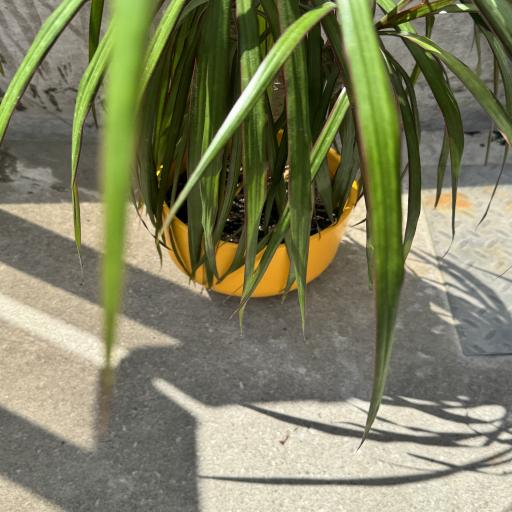Plant Pot: (150, 128, 359, 296)
